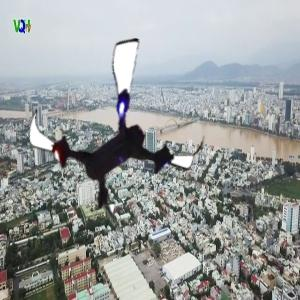drone: (24, 37, 209, 222)
